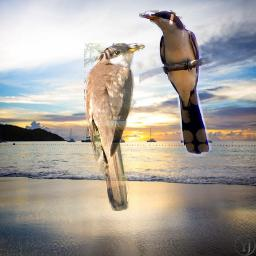Cuckoo: (139, 10, 212, 157), (84, 43, 145, 211)
